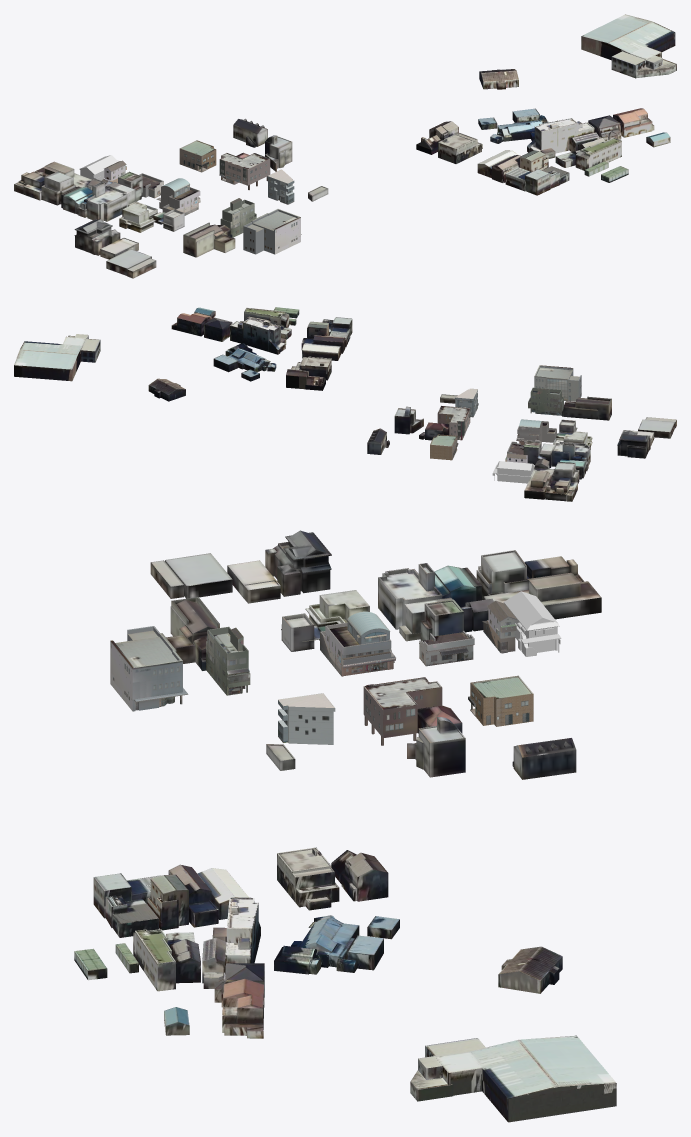
The model's file is lod3-station-1-1-packed.glb.
3 renders of one model, top to bottom at view 1: azimuth 30°, elevation 25°; view 2: azimuth 150°, elevation 25°; view 3: azimuth 270°, elevation 25°, orthographic. The views are drawn at different scales.
Size of the model in its own units: 323 by 13.89 by 132.
Materials: 5 (4 with a texture image).
